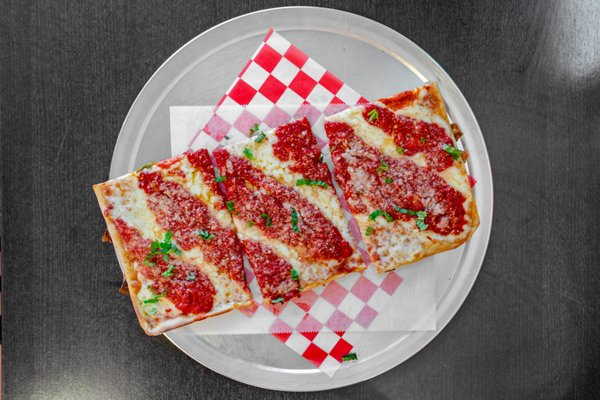curry: (13, 0, 599, 388)
sandwich: (93, 117, 368, 336), (94, 147, 258, 337), (325, 82, 478, 271), (208, 118, 361, 295)
